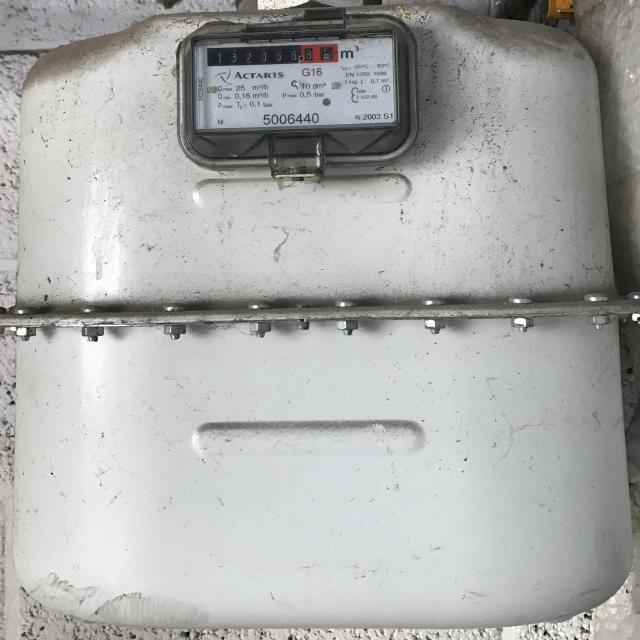gaz_meter: (193, 33, 399, 129)
indication: (208, 43, 339, 68)
